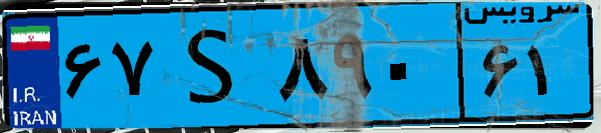0: (385, 28, 445, 110)
1: (525, 38, 570, 115)
6: (57, 26, 110, 100), (475, 38, 525, 113)
7: (110, 28, 158, 98)
8: (270, 28, 330, 110)
9: (330, 28, 385, 110)
S: (158, 12, 270, 120)
